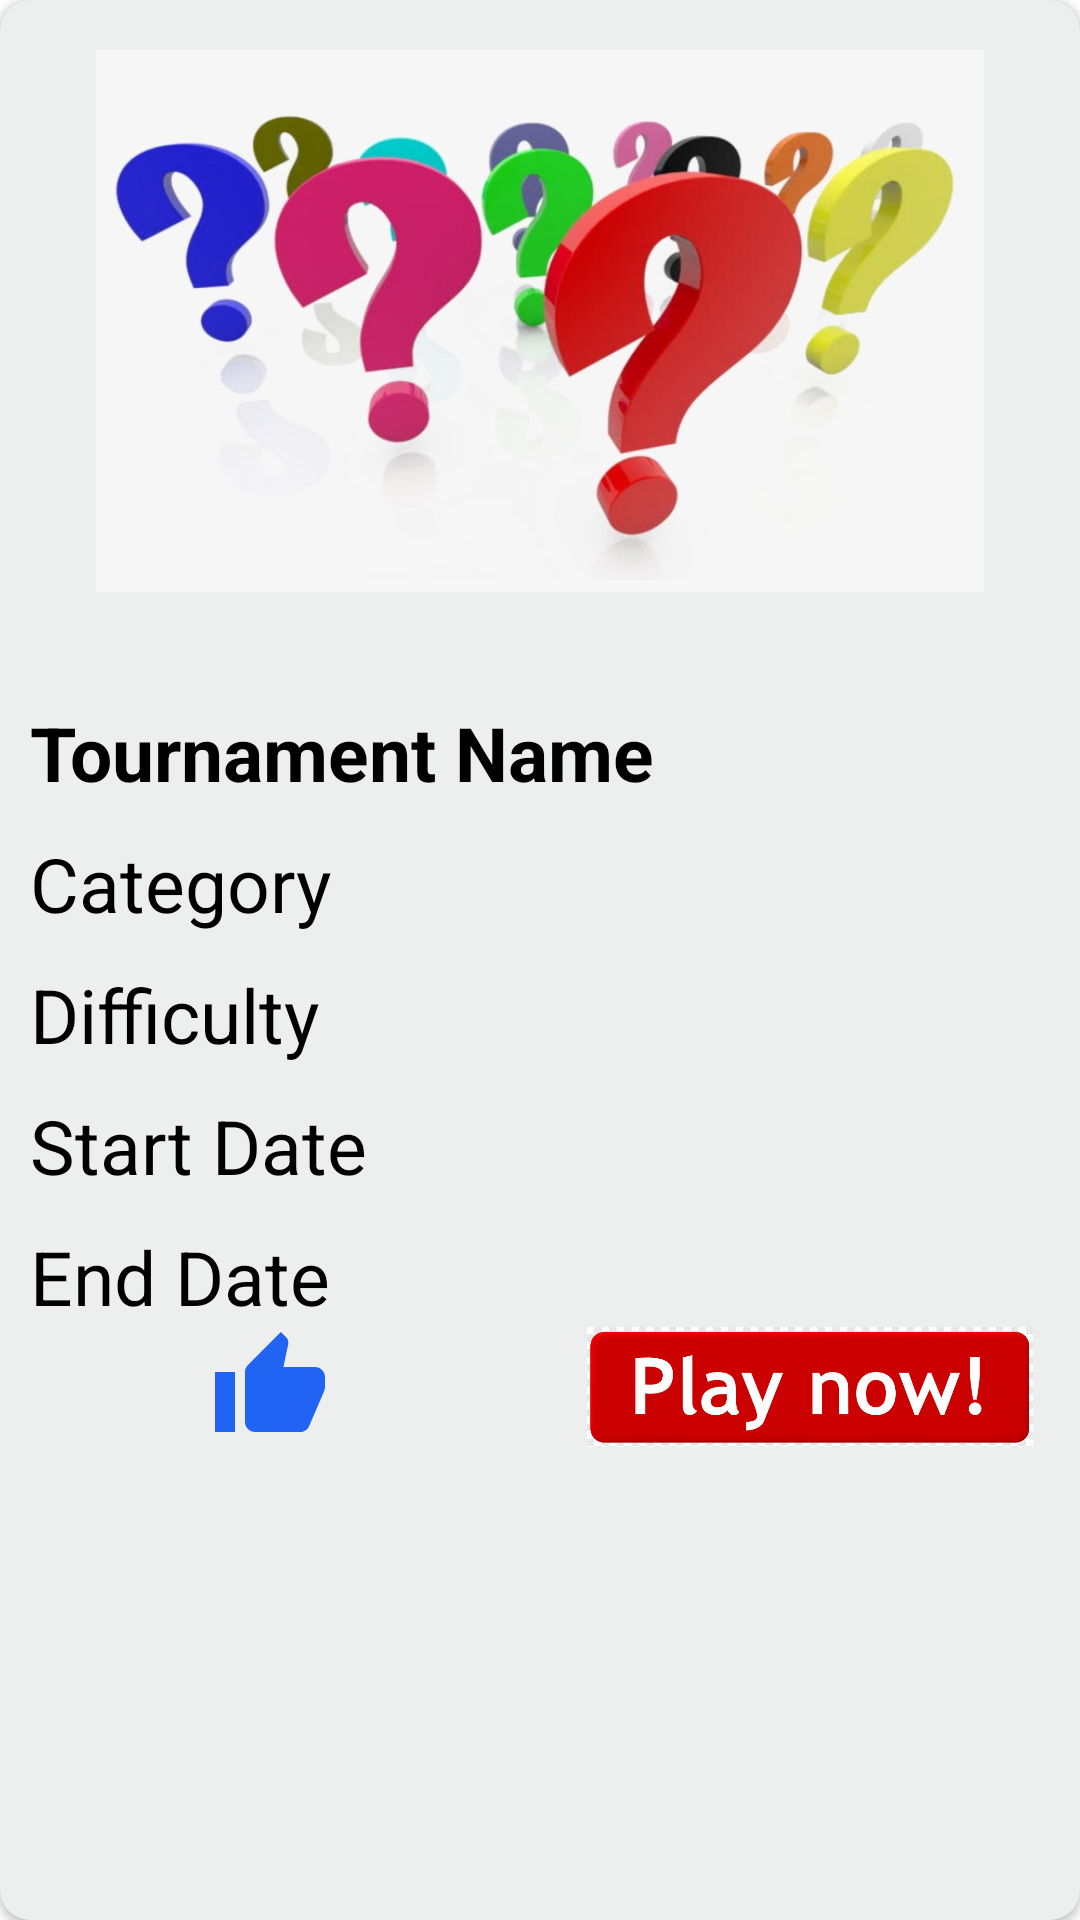

Where icons sit on this 1080px×1920px app screen, as box=[x1, y1, x2, y2]:
thumbsup: box=[215, 1332, 325, 1432]
